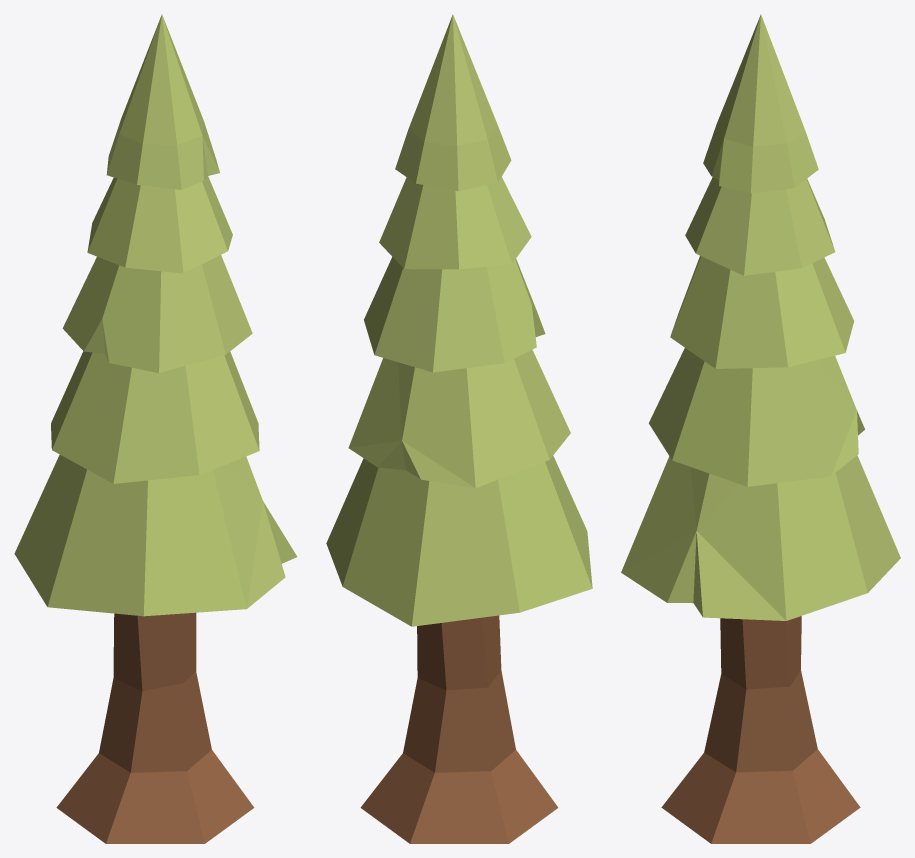
File: Tree Large.glb
The picture shows the model from 3 angles, left to right: view 1: azimuth 30°, elevation 25°; view 2: azimuth 150°, elevation 25°; view 3: azimuth 270°, elevation 25°; orthographic projection.
Parts seen in each view (by area): view 1: TreeLong; view 2: TreeLong; view 3: TreeLong.
Part boxes in pixels (bbox=[...]): TreeLong: bbox=[14, 14, 297, 843]; TreeLong: bbox=[326, 14, 592, 843]; TreeLong: bbox=[621, 14, 900, 843].
Bounding box in the file's own units: 2.08 × 6.54 × 2.08.
